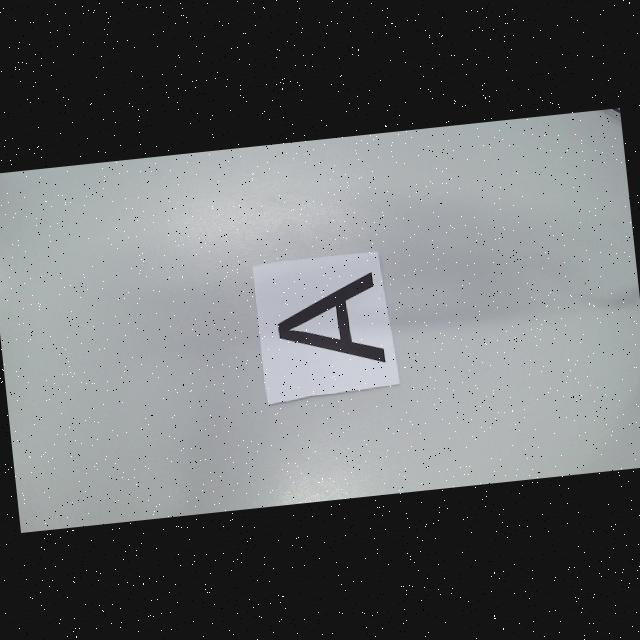FAKE: (273, 272, 386, 372)
